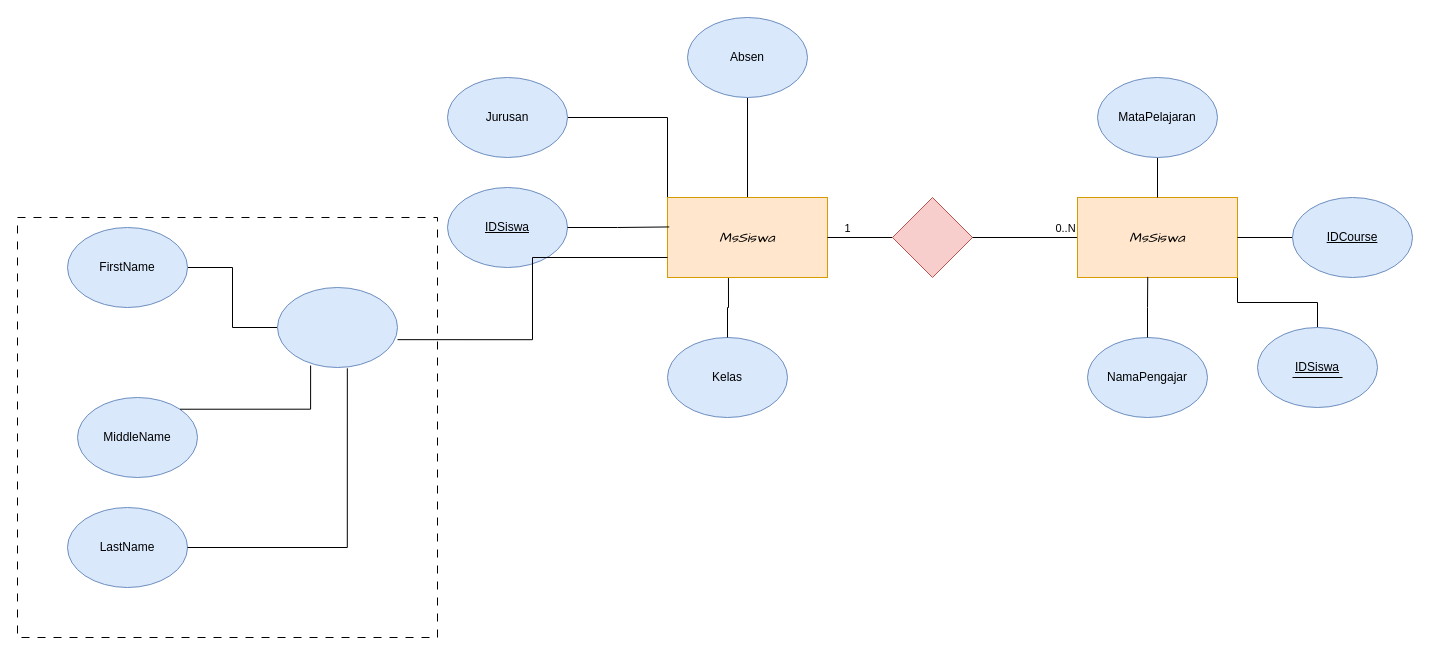
Some shapes in this 1430 by 655 pixel diagram are drawn without their labels. Each missing label, with the box of its shape:
Belajar: (892, 196, 972, 278)
Nama: (276, 286, 398, 368)
